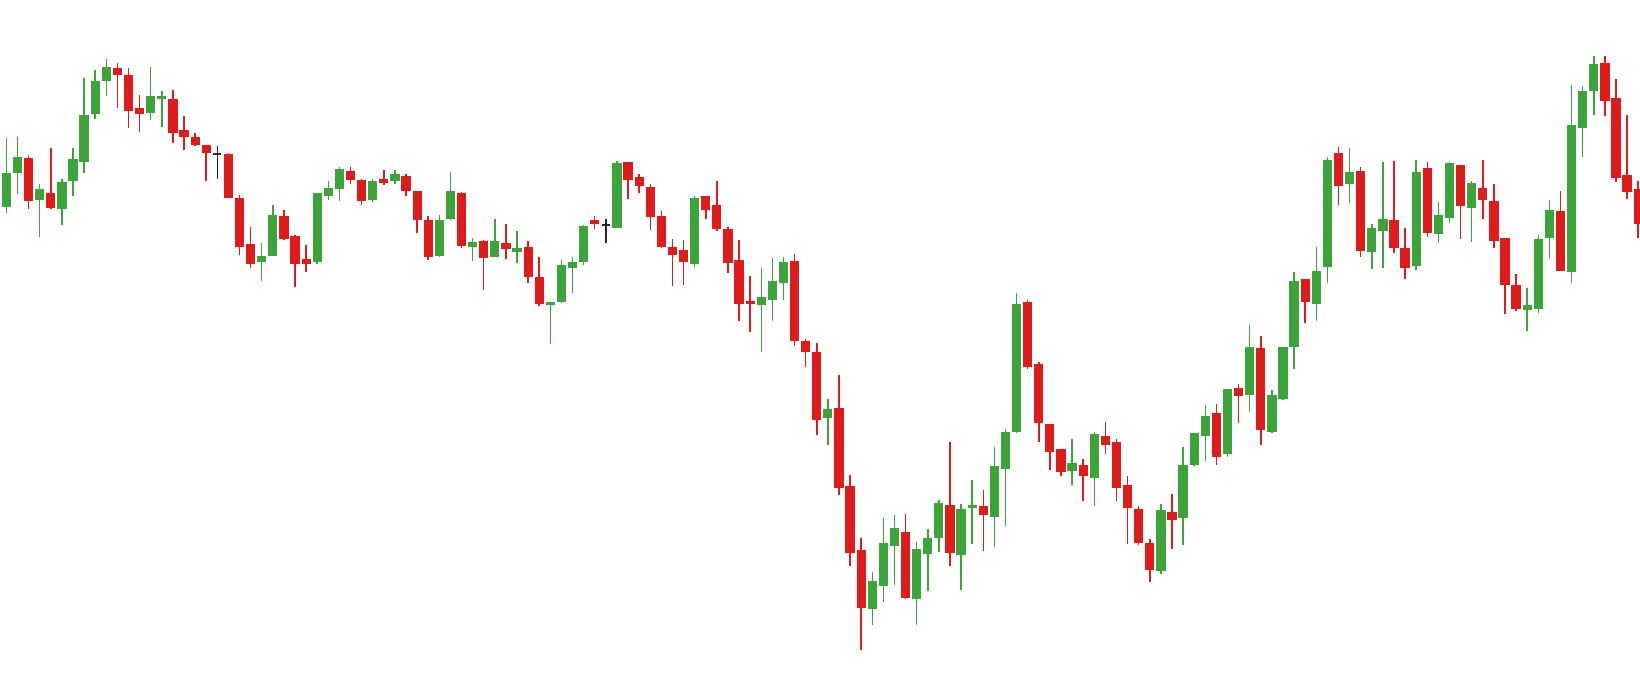buy: (1399, 202, 1545, 327), (476, 235, 568, 338)
